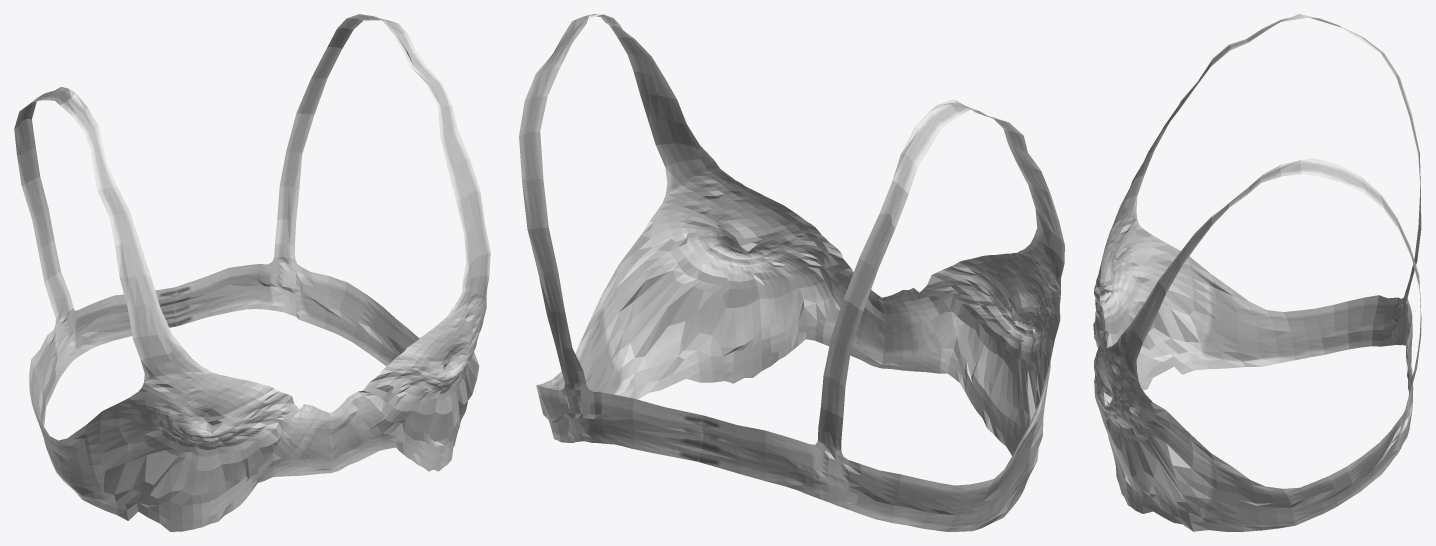
Rendered from mhw_joepal_plain_bra.glb.
The picture shows the model from 3 angles, left to right: view 1: azimuth 30°, elevation 25°; view 2: azimuth 150°, elevation 25°; view 3: azimuth 270°, elevation 25°; orthographic projection. The views are drawn at different scales.
Parts seen in each view (by area): view 1: mhw_joepal_plain_bra; view 2: mhw_joepal_plain_bra; view 3: mhw_joepal_plain_bra.
Boxes of the visible parts, x1,y1,x2,y2 form: mhw_joepal_plain_bra: [14, 14, 490, 531]; mhw_joepal_plain_bra: [519, 14, 1064, 531]; mhw_joepal_plain_bra: [1093, 14, 1421, 531].
Bounding box in the file's own units: 0.3228 × 0.3086 × 0.2504.
Materials: 1 (1 with a texture image).
